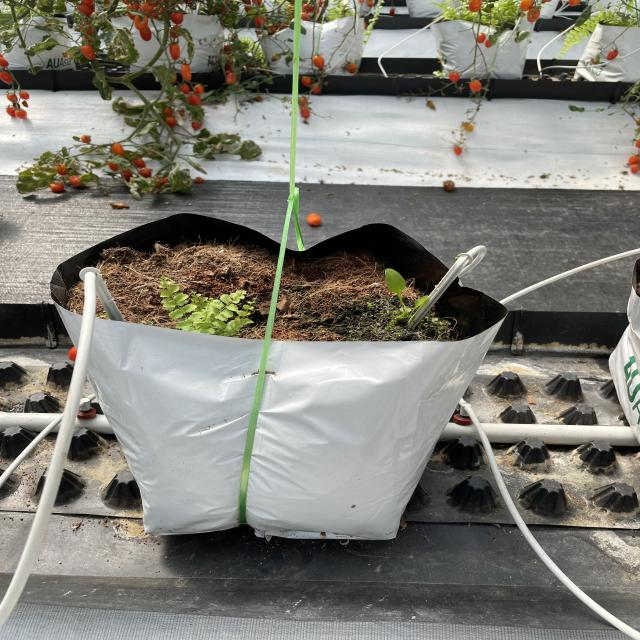Obstacle: (0, 373, 74, 618)
Soilbag: (35, 211, 496, 562)
